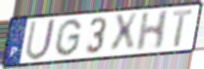3: (84, 16, 108, 55)
G: (53, 18, 84, 58)
H: (134, 9, 171, 53)
T: (172, 8, 194, 49)
U: (23, 17, 58, 62)
X: (109, 11, 140, 55)
